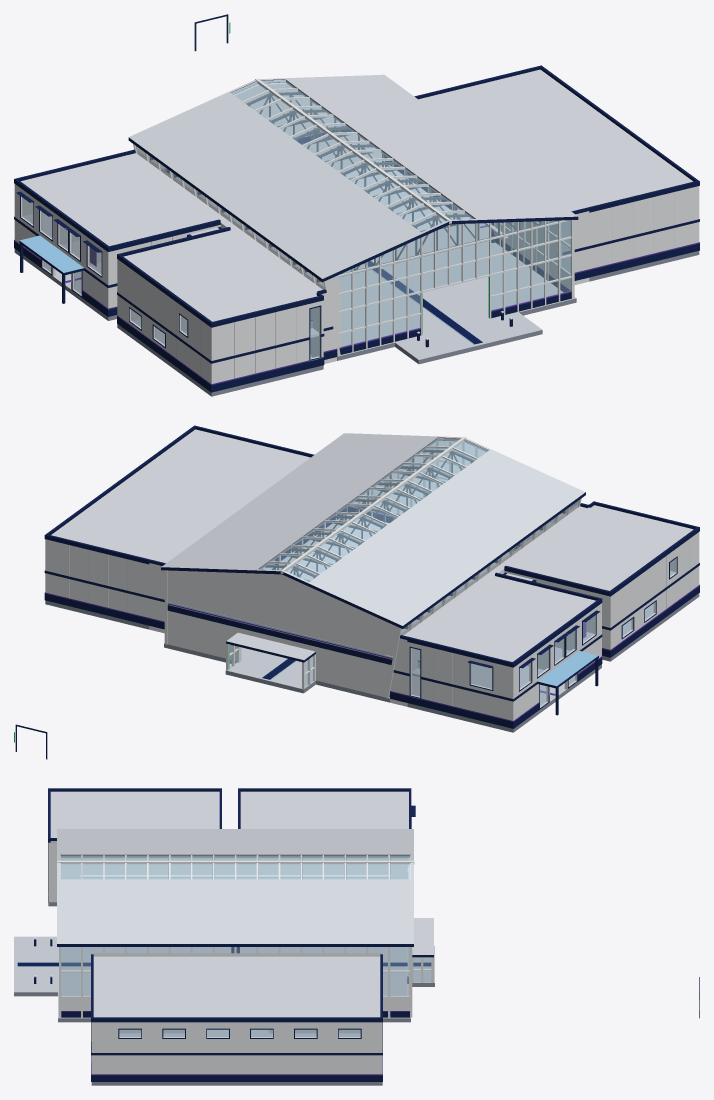
File: LLASO_Facility.obj
The picture shows the model from 3 angles, top to bottom: view 1: azimuth 30°, elevation 25°; view 2: azimuth 150°, elevation 25°; view 3: azimuth 270°, elevation 25°; orthographic projection. The views are drawn at different scales.
Visible parts, largest first — view 1: LLASO_Facility, LLASO_Room_RobotHangar, LLASO_Room_IDK, LLASO_Room_EntranceLobby, LLASO_Connector_North, LLASO_Connector_South; view 2: LLASO_Facility, LLASO_Room_RobotHangar, LLASO_Room_EntranceLobby, LLASO_Room_IDK, LLASO_Connector_North, LLASO_Connector_South, LLASO_L2_Slab; view 3: LLASO_Facility, LLASO_Room_RobotHangar, LLASO_Room_IDK, LLASO_Room_EntranceLobby, LLASO_Connector_North.
Boxes of the visible parts, left/top/right/bottom form: LLASO_Facility: left=128, top=74, right=578, bottom=364; LLASO_Room_RobotHangar: left=431, top=65, right=699, bottom=281; LLASO_Room_IDK: left=117, top=227, right=324, bottom=396; LLASO_Room_EntranceLobby: left=14, top=14, right=230, bottom=320; LLASO_Connector_North: left=414, top=92, right=589, bottom=284; LLASO_Connector_South: left=127, top=149, right=337, bottom=363; LLASO_Facility: left=161, top=433, right=585, bottom=702; LLASO_Room_RobotHangar: left=44, top=425, right=298, bottom=629; LLASO_Room_EntranceLobby: left=14, top=572, right=602, bottom=759; LLASO_Room_IDK: left=504, top=501, right=699, bottom=661; LLASO_Connector_North: left=149, top=451, right=314, bottom=633; LLASO_Connector_South: left=390, top=503, right=588, bottom=706; LLASO_L2_Slab: left=412, top=571, right=674, bottom=688; LLASO_Facility: left=14, top=829, right=434, bottom=1022; LLASO_Room_RobotHangar: left=91, top=968, right=382, bottom=1085; LLASO_Room_IDK: left=48, top=788, right=221, bottom=906; LLASO_Room_EntranceLobby: left=238, top=788, right=699, bottom=1018; LLASO_Connector_North: left=91, top=954, right=382, bottom=970.
Bounding box in the file's own units: 77.36 × 15.7 × 93.8.
